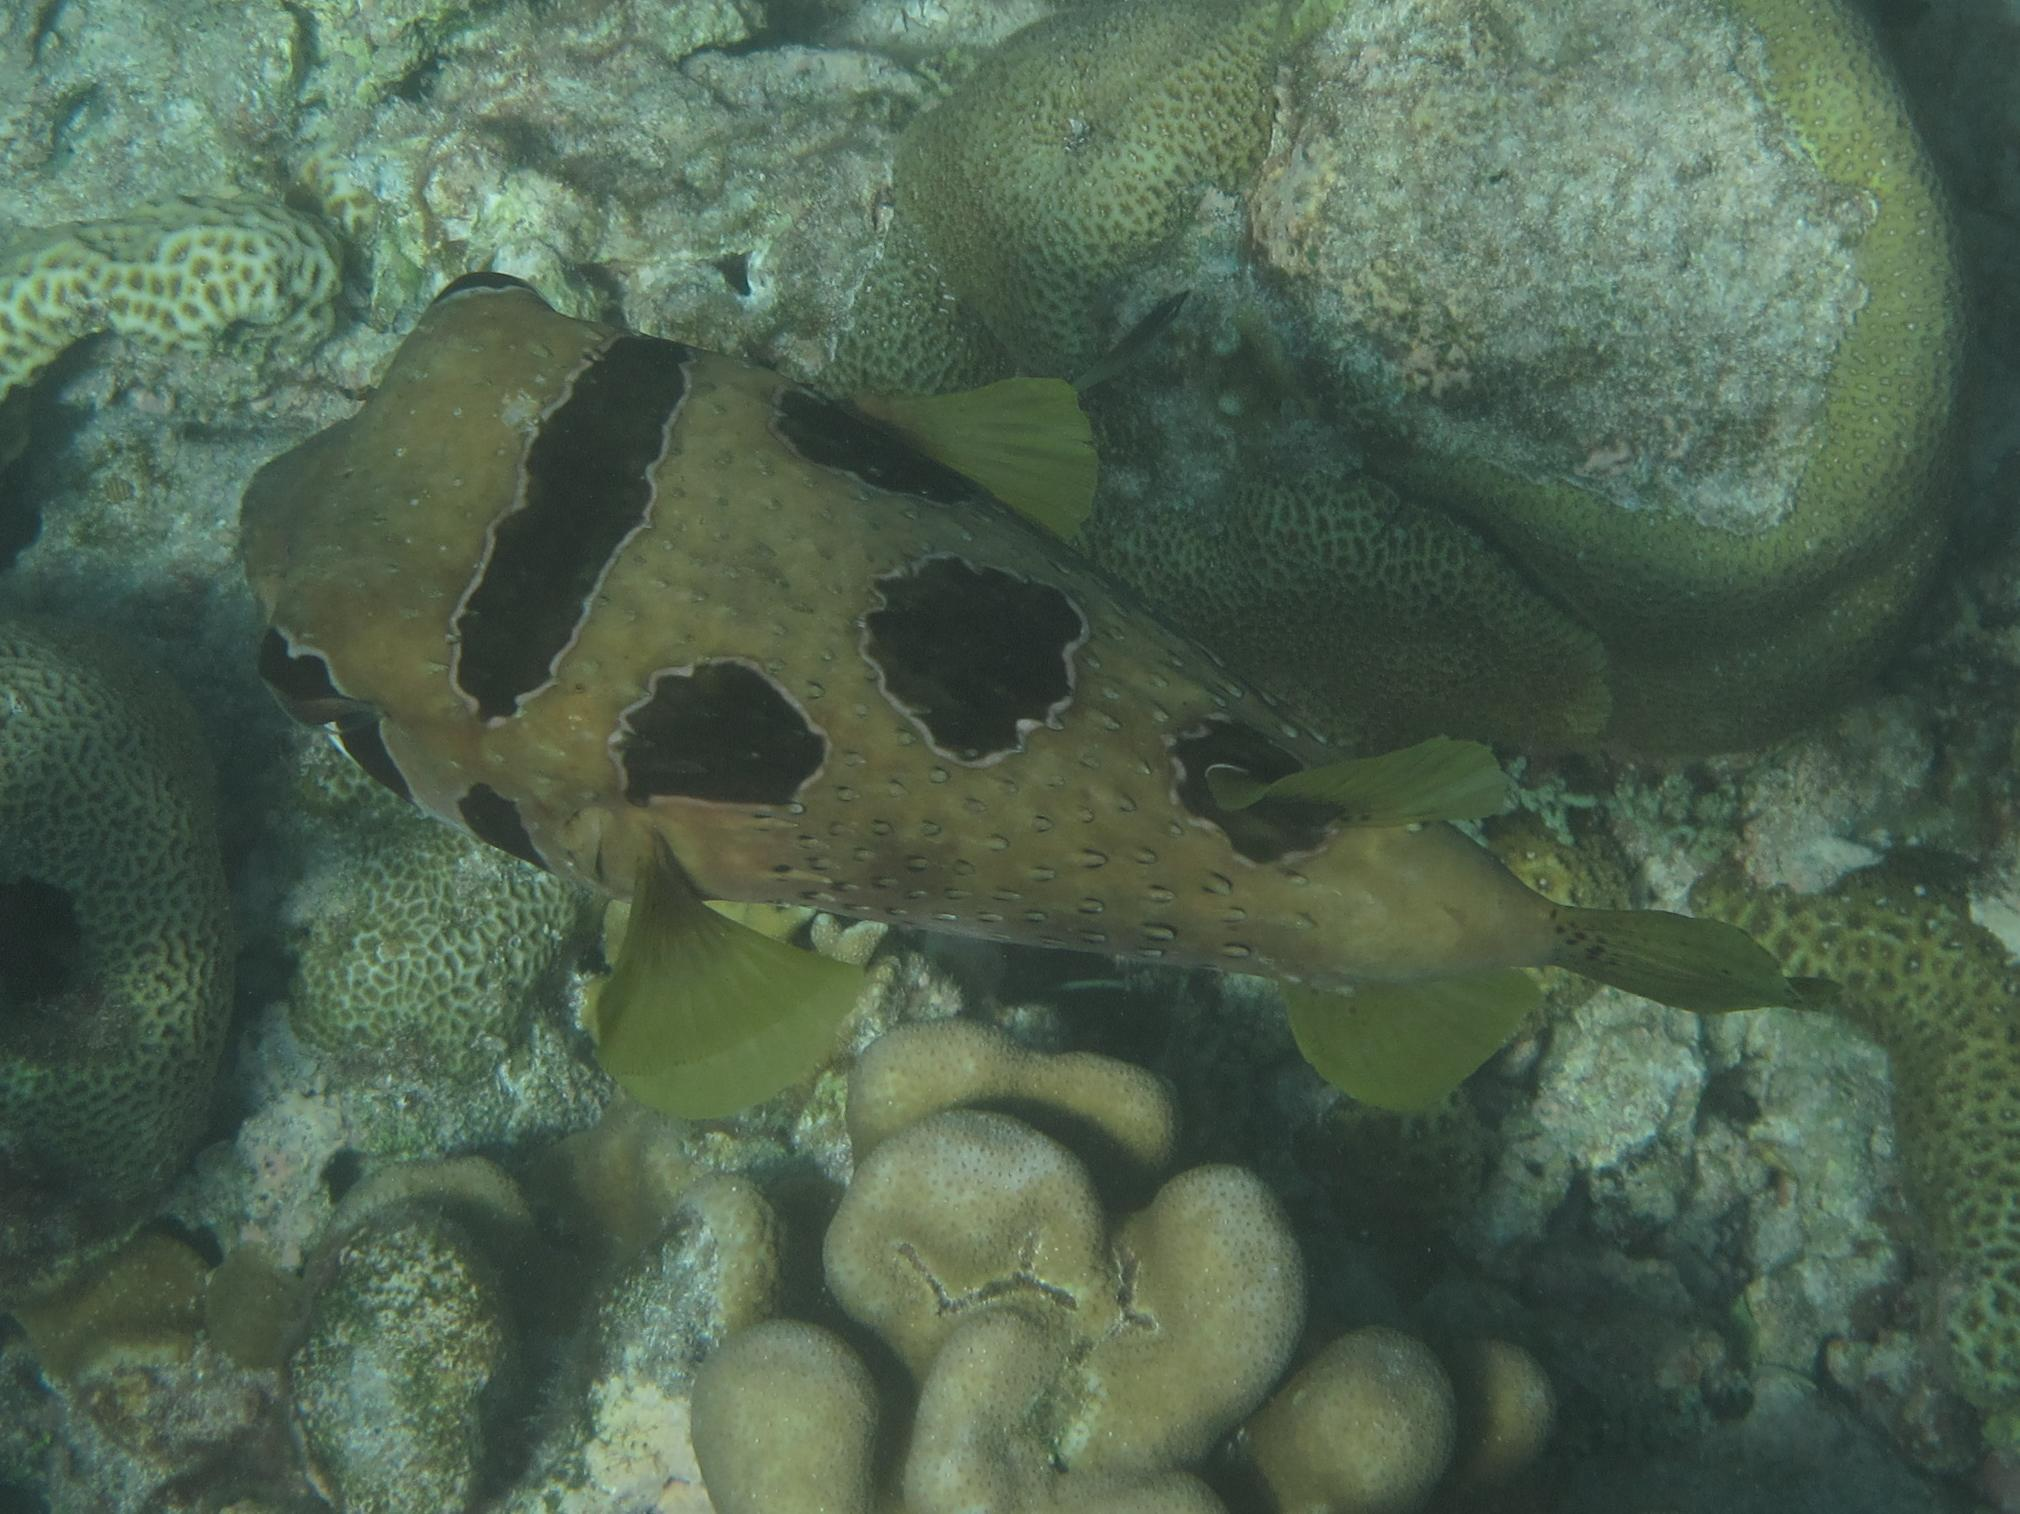Fish: (207, 264, 1840, 1126)
